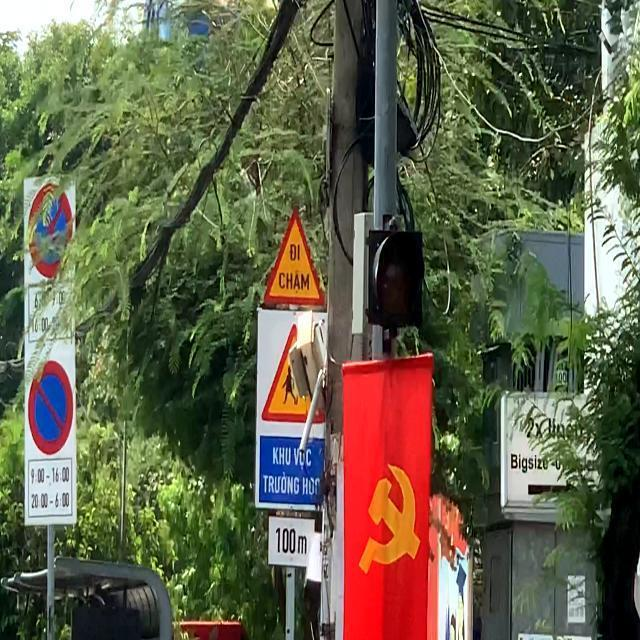130-cam-dung-va-do-xe: (24, 184, 82, 274)
131a-cam-do-xe: (26, 362, 74, 454)
225-chu-y-tre-em: (262, 326, 336, 426)
245-di-cham: (260, 210, 326, 310)
